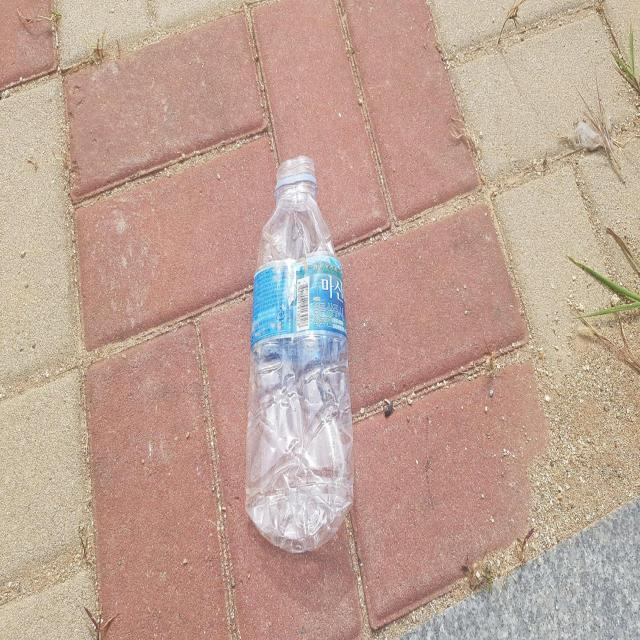plastic: (246, 154, 354, 553)
